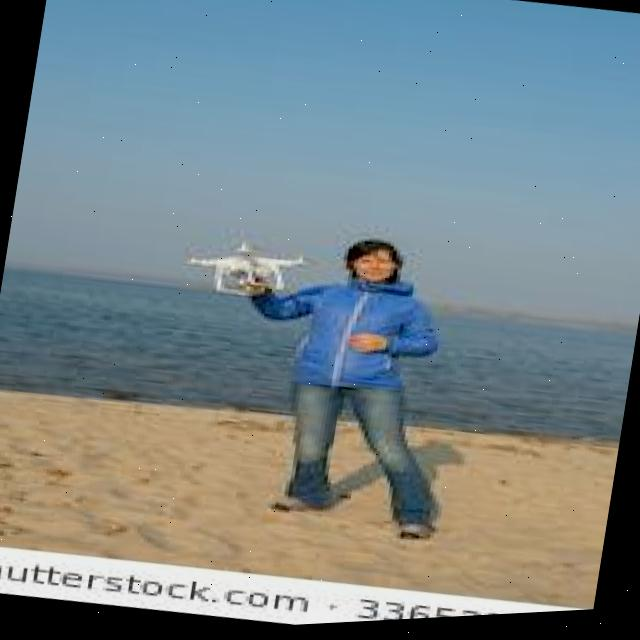drone: (156, 214, 320, 331)
